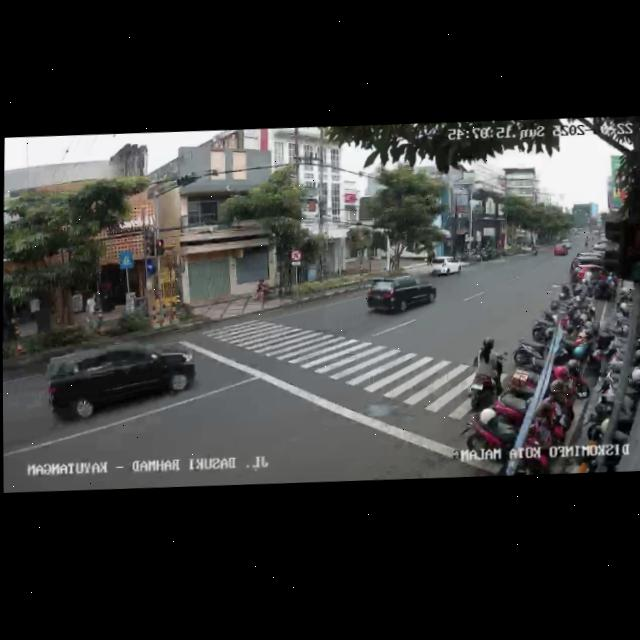car: (43, 334, 199, 427), (364, 270, 437, 318), (569, 248, 609, 289), (429, 254, 463, 276), (552, 238, 570, 254)
motorcycle: (469, 333, 508, 410)
